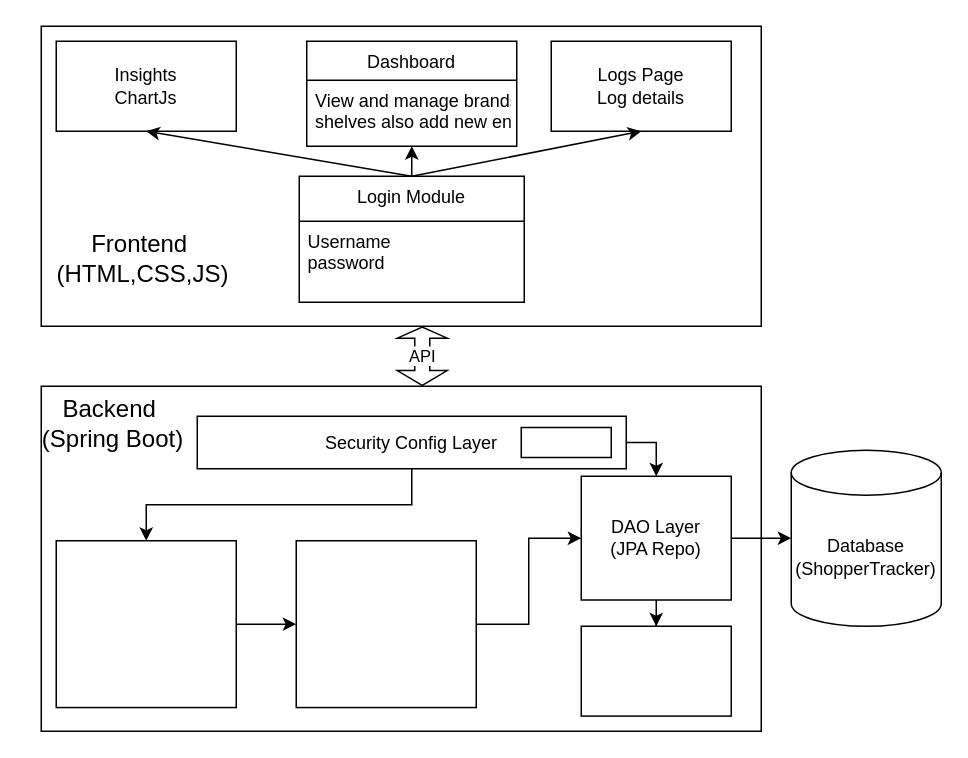
This 968x758 diagram has some shape labels left out. Each missing label, with the centre of its shape:
AuthProvider: the point at 565,442
Controller (User,Customer, Shelf,Sensor,Hanger, Trialroom,Purchase): the point at 145,623
Models (User,Products Shelf etc,.): the point at 655,670
Service Layer (User,Customer, Shelf,Sensor,Hanger, Trialroom,Purchase): the point at 385,623
